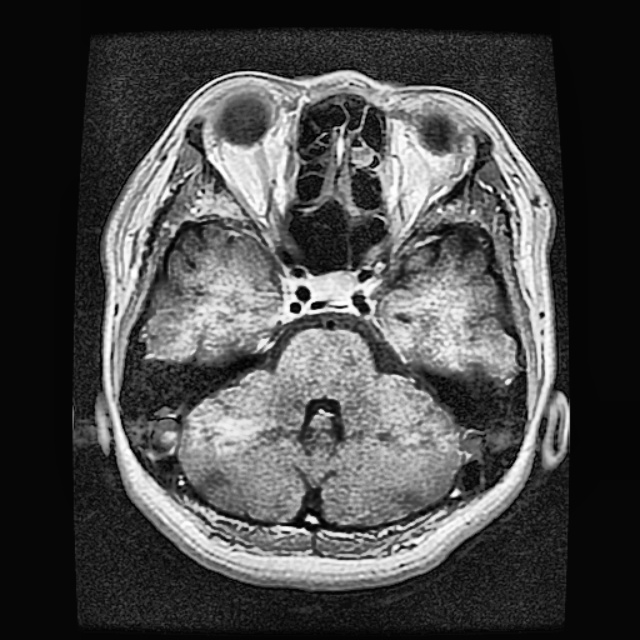Pituitary: (307, 270, 357, 304)
